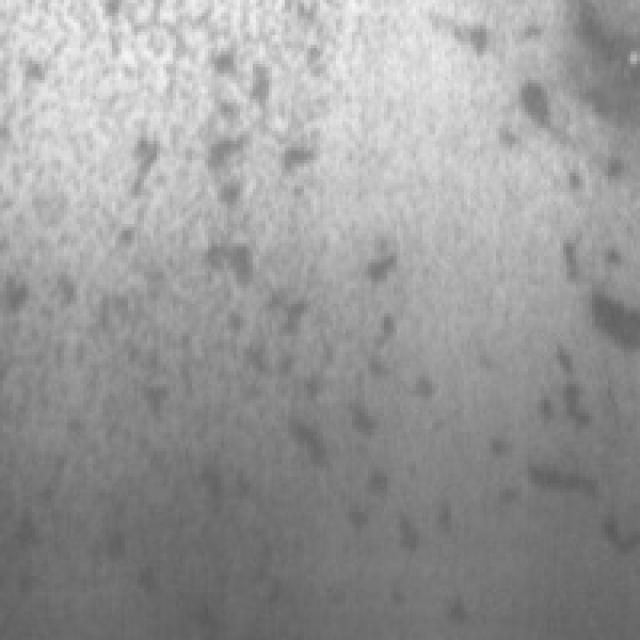pitted_surface: (16, 45, 403, 595), (490, 217, 640, 563), (502, 0, 640, 234)
